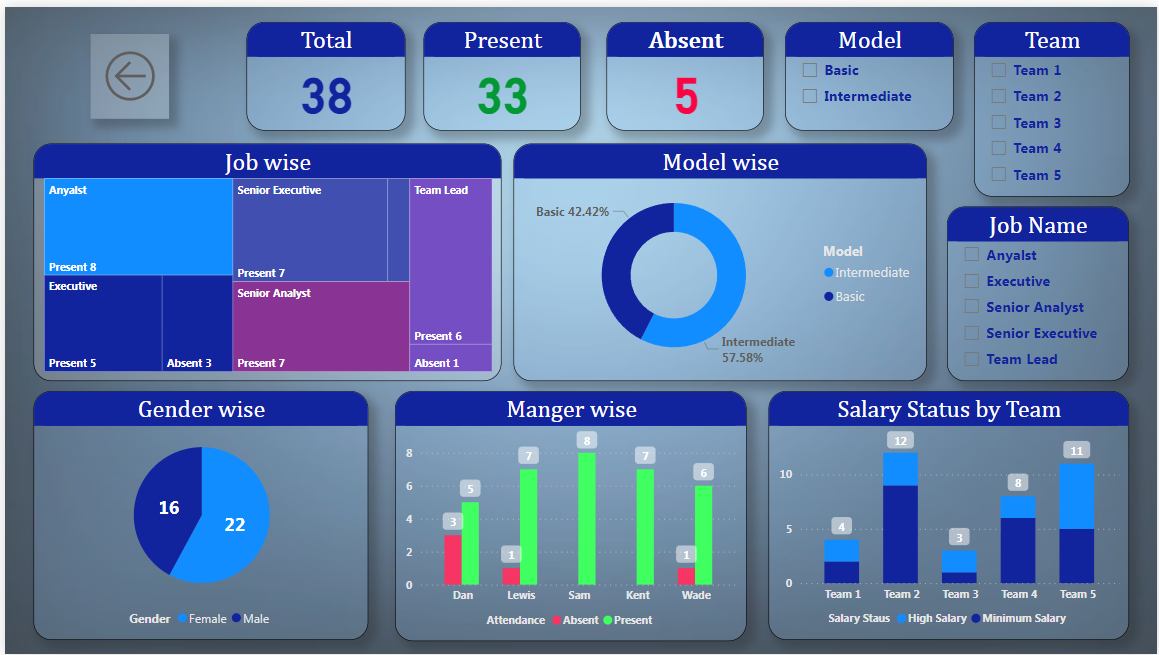

Layout of this report page (visuals, bound fields, positions):
{"tool":"powerbi","page":{"name":"Page 1","canvas":[1280,720],"ordinal":0},"visuals":[{"type":"card","title":"Total ","fields":{"Values":["CountNonNull(Data.Full Name)"]},"box":[268.6,15.9,176.4,120.8],"z":0},{"type":"card","title":"Present","fields":{"Values":["Sum(Data.Attendance Status)"]},"box":[465.7,15.9,174.8,120.8],"z":1000},{"type":"card","title":"Absent","fields":{"Values":["CountNonNull(Data.Full Name)"]},"box":[669.1,15.9,174.8,120.8],"z":2000},{"type":"columnChart","title":"Salary Status by Team","fields":{"Category":["Data.Team"],"Y":["CountNonNull(Data.Full Name)"],"Series":["Data.Salary Staus"]},"box":[848.7,426,400.5,276.6],"z":3000},{"type":"clusteredColumnChart","title":"Manger wise","fields":{"Category":["Data.Senior Manager"],"Y":["CountNonNull(Data.Full Name)"],"Series":["Data.Attendance"]},"box":[433.9,426,391,278.1],"z":4000},{"type":"slicer","title":"Job Name","fields":{"Values":["Data.Job Level"]},"box":[1047.4,220.9,201.9,193.9],"z":5000},{"type":"pieChart","title":"Gender wise","fields":{"Category":["Data.Gender"],"Y":["CountNonNull(Data.Attendance)"]},"box":[31.8,426,371.9,276.6],"z":6000},{"type":"treemap","title":"Job wise ","fields":{"Group":["Data.Job Level"],"Values":["CountNonNull(Data.Full Name)"],"Details":["Data.Attendance"]},"box":[31.8,151,519.7,263.8],"z":7000},{"type":"donutChart","title":"Model wise","fields":{"Category":["Data.Model"],"Y":["Sum(Data.Attendance Status)"]},"box":[565.8,151,459.3,263.8],"z":8000},{"type":"slicer","title":"Team","fields":{"Values":["Data.Team"]},"box":[1076,15.9,173.2,193.9],"z":9000},{"type":"slicer","title":"Model","fields":{"Values":["Data.Model"]},"box":[866.2,15.9,187.5,120.8],"z":10000},{"type":"actionButton","box":[95.4,30.2,87.4,93.8],"z":11000}]}

Visuals, with their boxes in screenshot pixels (x1, y1, x2, y2), scaled from the page's 1280x720 canvas onto the 1159x655 screenshot:
"Total " card: x1=243, y1=14, x2=403, y2=124
"Present" card: x1=422, y1=14, x2=580, y2=124
"Absent" card: x1=606, y1=14, x2=764, y2=124
"Salary Status by Team" columnChart: x1=768, y1=388, x2=1131, y2=639
"Manger wise" clusteredColumnChart: x1=393, y1=388, x2=747, y2=641
"Job Name" slicer: x1=948, y1=201, x2=1131, y2=377
"Gender wise" pieChart: x1=29, y1=388, x2=366, y2=639
"Job wise " treemap: x1=29, y1=137, x2=499, y2=377
"Model wise" donutChart: x1=512, y1=137, x2=928, y2=377
"Team" slicer: x1=974, y1=14, x2=1131, y2=191
"Model" slicer: x1=784, y1=14, x2=954, y2=124
actionButton: x1=86, y1=27, x2=166, y2=113
